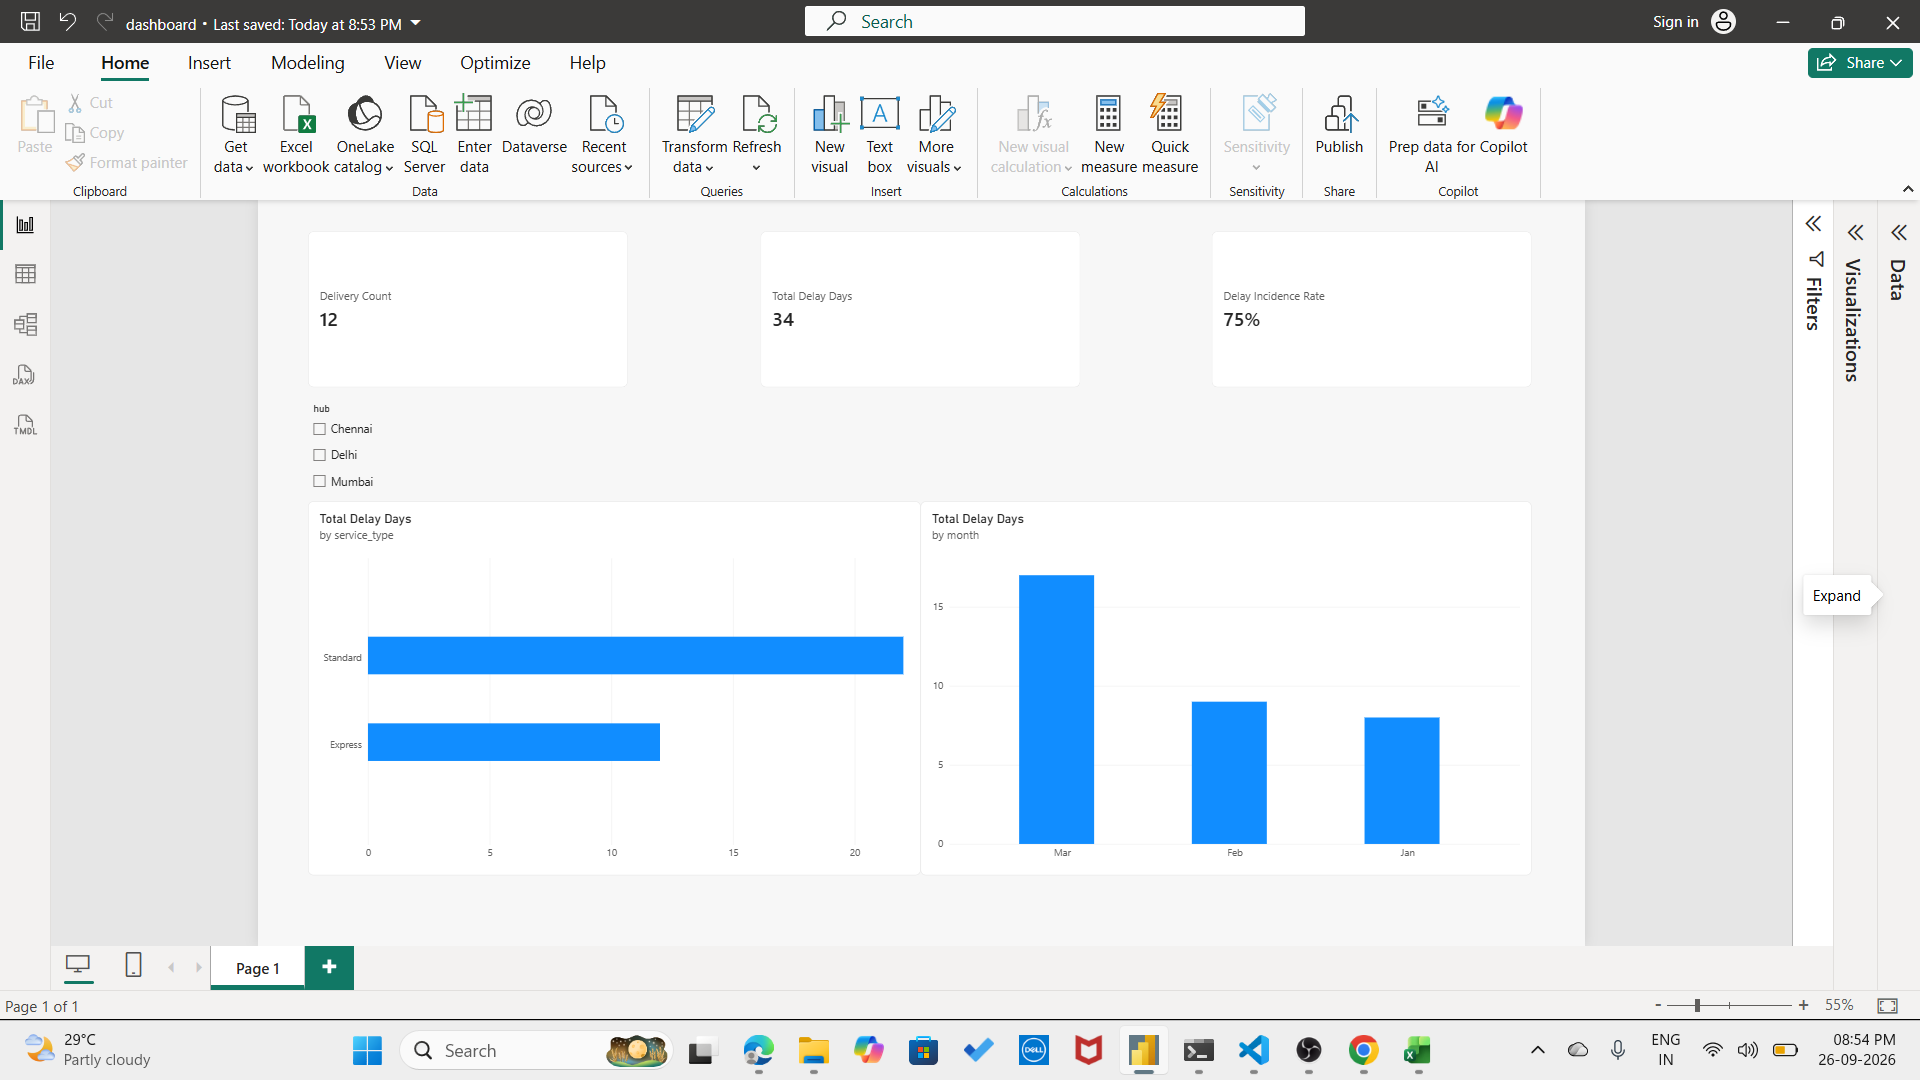

This screenshot's page, from the dashboard's own definition file:
{"tool":"powerbi","page":{"name":"Page 1","canvas":[1920,1080],"ordinal":0},"visuals":[{"type":"cardVisual","fields":{"Data":["Measuress.Delivery Count"]},"box":[72,45.3,463.1,226.4],"z":0},{"type":"cardVisual","fields":{"Data":["Measuress.Total Delay Days"]},"box":[726.6,45.3,463.1,226.4],"z":1000},{"type":"cardVisual","fields":{"Data":["Measuress.Delay Incidence Rate"]},"box":[1381.1,45.3,463.1,226.4],"z":2000},{"type":"clusteredBarChart","fields":{"Category":["routes.service_type"],"Y":["Measuress.Total Delay Days"]},"box":[72,436.4,887.1,541.3],"z":3000},{"type":"clusteredColumnChart","fields":{"Category":["deliveries.month"],"Y":["Measuress.Total Delay Days"]},"box":[959.2,436.4,885.1,541.3],"z":4000},{"type":"slicer","fields":{"Values":["deliveries.hub"]},"box":[72,292.3,1772.2,144.1],"z":5000}]}

Visuals, with their boxes on the page's 1920x1080 design canvas (x1, y1, x2, y2). These are canvas units, not pixel positions in the 1920x1080 screenshot, which may show the page scaled, cropped or inside an application window:
cardVisual - Measuress.Delivery Count: pyautogui.locateOnScreen(72, 45, 535, 272)
cardVisual - Measuress.Total Delay Days: pyautogui.locateOnScreen(727, 45, 1190, 272)
cardVisual - Measuress.Delay Incidence Rate: pyautogui.locateOnScreen(1381, 45, 1844, 272)
clusteredBarChart - routes.service_type x Measuress.Total Delay Days: pyautogui.locateOnScreen(72, 436, 959, 978)
clusteredColumnChart - deliveries.month x Measuress.Total Delay Days: pyautogui.locateOnScreen(959, 436, 1844, 978)
slicer - deliveries.hub: pyautogui.locateOnScreen(72, 292, 1844, 436)
